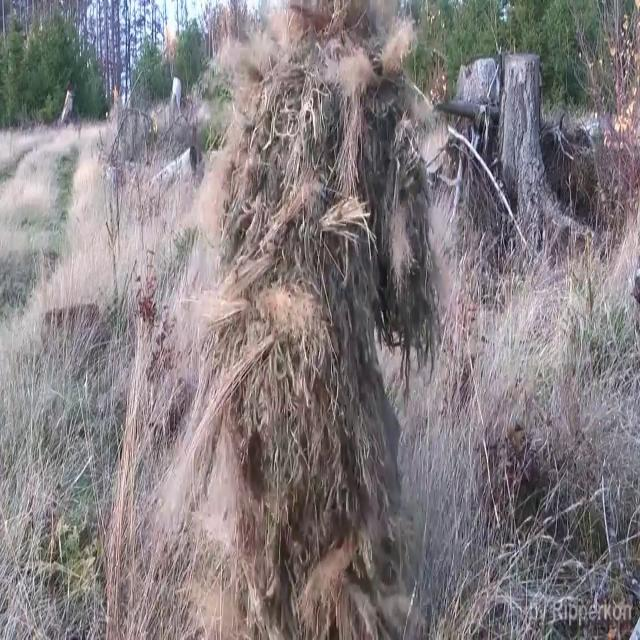Camouflage: (190, 4, 440, 640)
